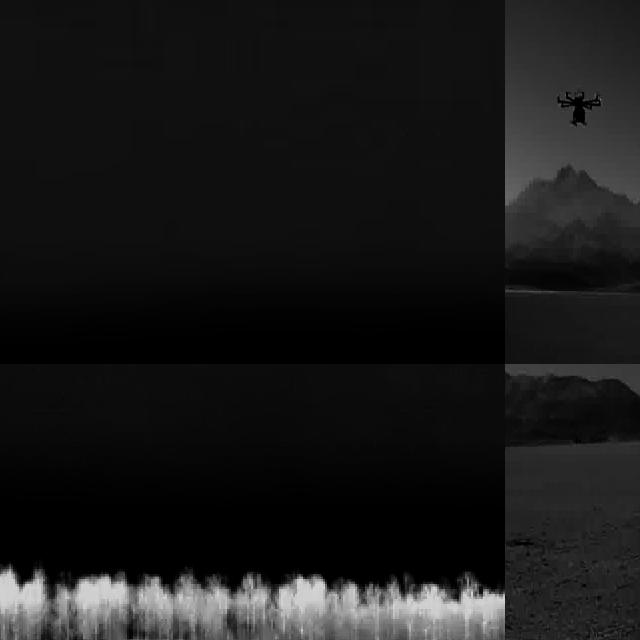drone: (552, 86, 602, 130)
